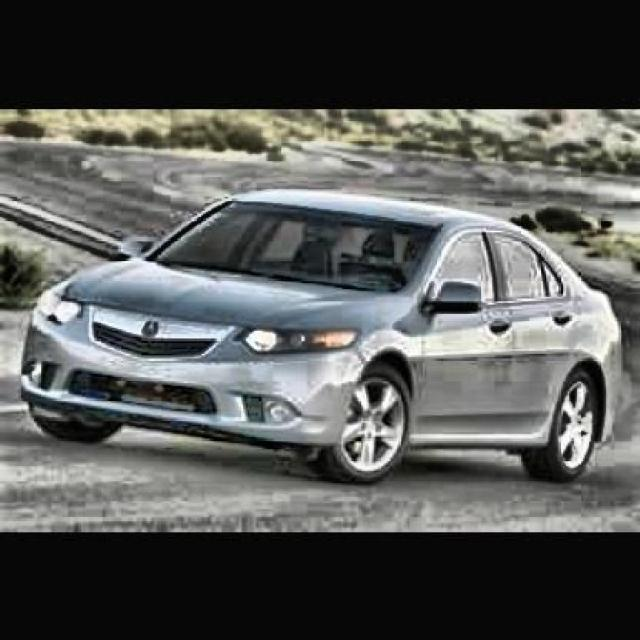silver: (18, 190, 620, 484)
